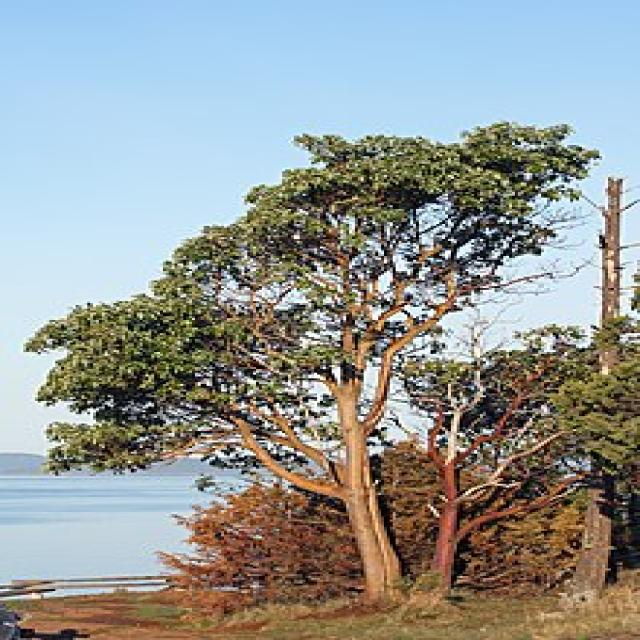Arbutus menziesii: (21, 111, 614, 620)
